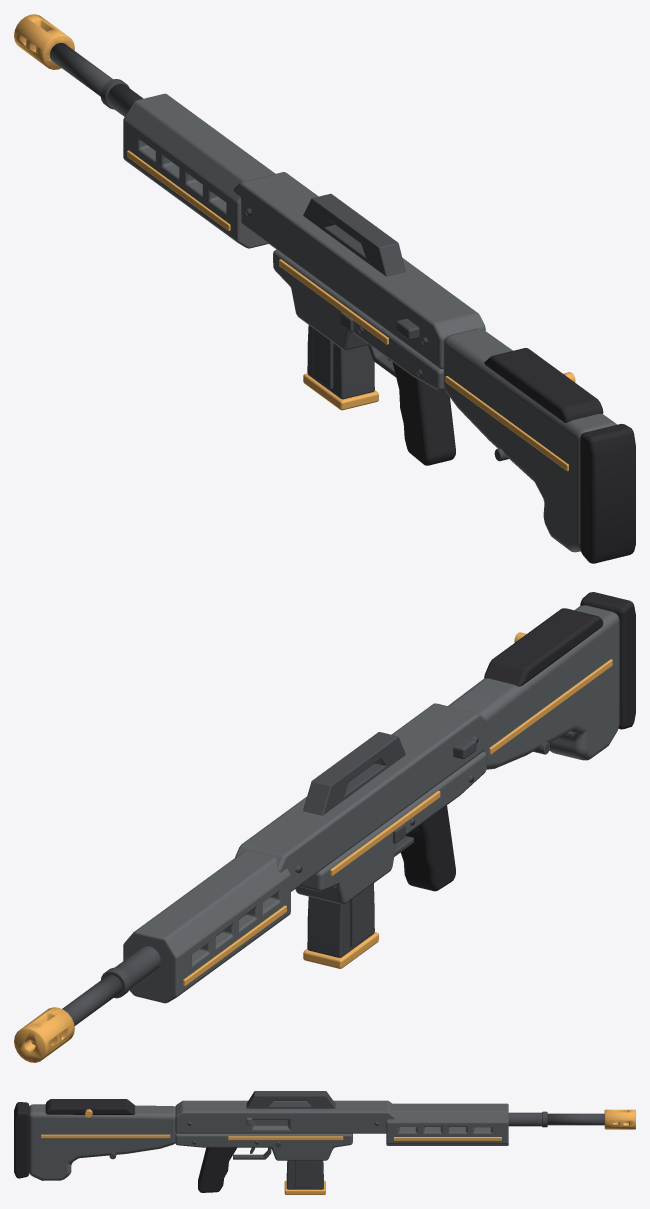
File: aurum.glb
The picture shows the model from 3 angles, top to bottom: view 1: azimuth 30°, elevation 25°; view 2: azimuth 150°, elevation 25°; view 3: azimuth 270°, elevation 25°; orthographic projection. The views are drawn at different scales.
Visible parts, largest first — view 1: upper, stock.003, handguard.001, buttpad.001, lower, mag, cheekpad, pgrip.001, bridge, brake.002, barrel.004, inlay.005 (+2 smaller); view 2: upper, stock.003, handguard.001, lower, mag, cheekpad, bridge, pgrip.001, buttpad.001, brake.002, barrel.004, inlay.005 (+3 smaller); view 3: stock.003, upper, handguard.001, lower, bridge, cheekpad, mag, pgrip.001, buttpad.001, barrel.004, brake.002, inlay.004 (+4 smaller).
Part boxes in pixels (<box>): upper: <box>234,172,485,368</box>; stock.003: <box>443,328,616,552</box>; handguard.001: <box>123,93,275,248</box>; buttpad.001: <box>580,424,635,563</box>; lower: <box>273,249,444,390</box>; mag: <box>303,325,378,410</box>; cheekpad: <box>484,348,603,422</box>; pgrip.001: <box>392,362,455,465</box>; bridge: <box>303,193,405,276</box>; brake.002: <box>14,14,74,69</box>; barrel.004: <box>49,43,112,96</box>; inlay.005: <box>445,376,568,471</box>; upper: <box>235,703,485,891</box>; stock.003: <box>448,605,619,769</box>; handguard.001: <box>123,850,290,1003</box>; lower: <box>295,751,486,904</box>; mag: <box>303,883,378,968</box>; cheekpad: <box>484,608,603,686</box>; bridge: <box>303,732,405,815</box>; pgrip.001: <box>400,805,455,891</box>; buttpad.001: <box>580,592,635,729</box>; brake.002: <box>14,1007,74,1062</box>; barrel.004: <box>62,975,122,1025</box>; inlay.005: <box>489,659,612,754</box>; stock.003: <box>29,1104,175,1180</box>; upper: <box>175,1100,395,1133</box>; handguard.001: <box>386,1103,508,1145</box>; lower: <box>175,1133,352,1160</box>; bridge: <box>246,1091,335,1108</box>; cheekpad: <box>45,1099,135,1114</box>; mag: <box>284,1160,325,1194</box>; pgrip.001: <box>198,1147,236,1192</box>; buttpad.001: <box>14,1102,29,1178</box>; barrel.004: <box>547,1113,604,1125</box>; brake.002: <box>604,1109,635,1129</box>; inlay.004: <box>41,1134,170,1138</box>.
Bounding box in the file's own units: 0.0815 × 0.223 × 1.3.
